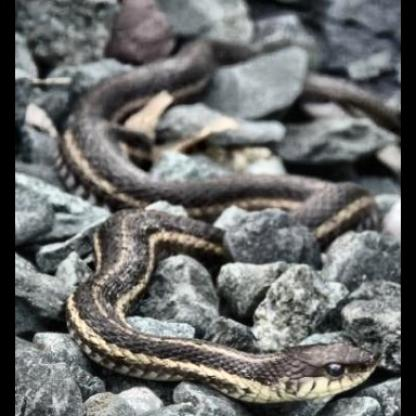Snake: (49, 69, 378, 413)
